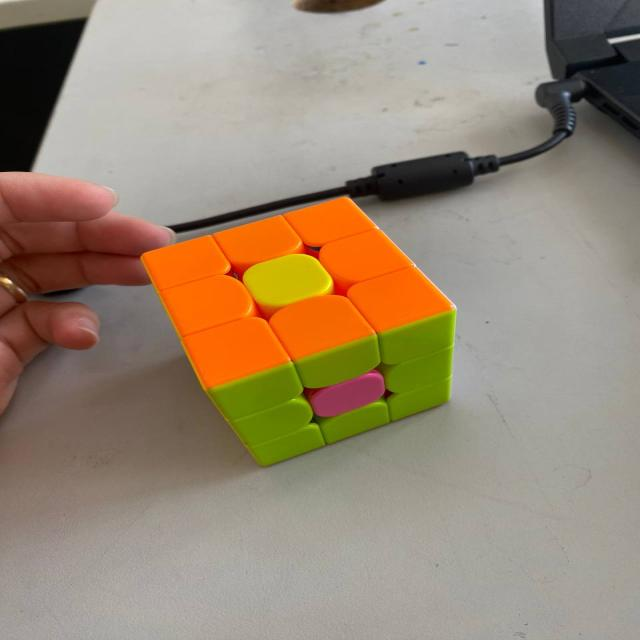Cube-3x3: (89, 203, 523, 468)
